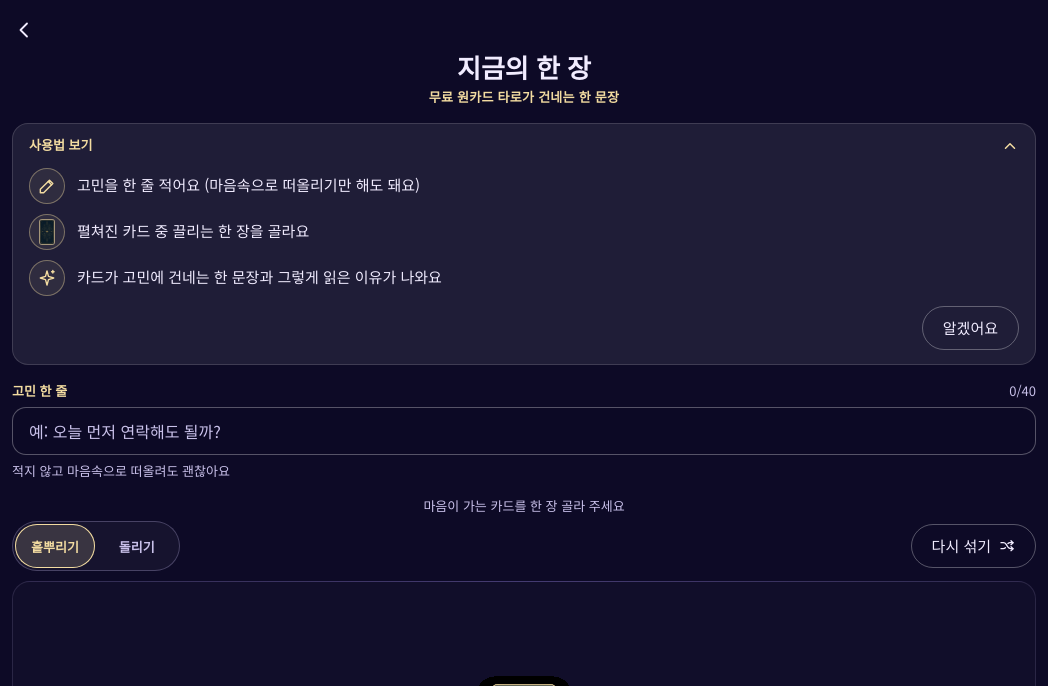
Test: 지금의 한 장 how-to › opens the three steps on a first visit; 알겠어요 folds them and remembers it
This screenshot has width=1048, height=686.
Expected: the list items read "고민을 한 줄 적어요 (마음속으로 떠올리기만 해도 돼요)", "펼쳐진 카드 중 끌리는 한 장을 골라요", "카드가 고민에 건네는 한 문장과 그렇게 읽은 이유가 나와요", in this order, [29, 168, 420, 204]; [29, 214, 309, 250]; [29, 260, 442, 296]
Click the button "알겠어요" at coordinates (970, 328), box [922, 306, 1019, 350]
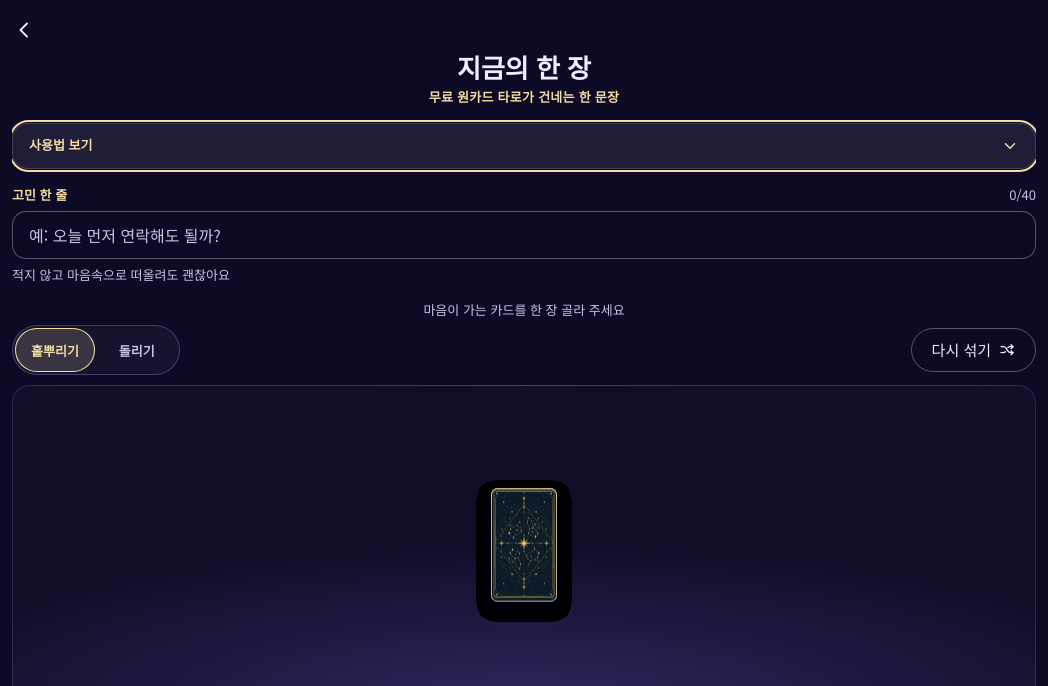
Expected: the button "사용법 보기" is collapsed, [13, 124, 1035, 168]
Expected: no list items are shown
